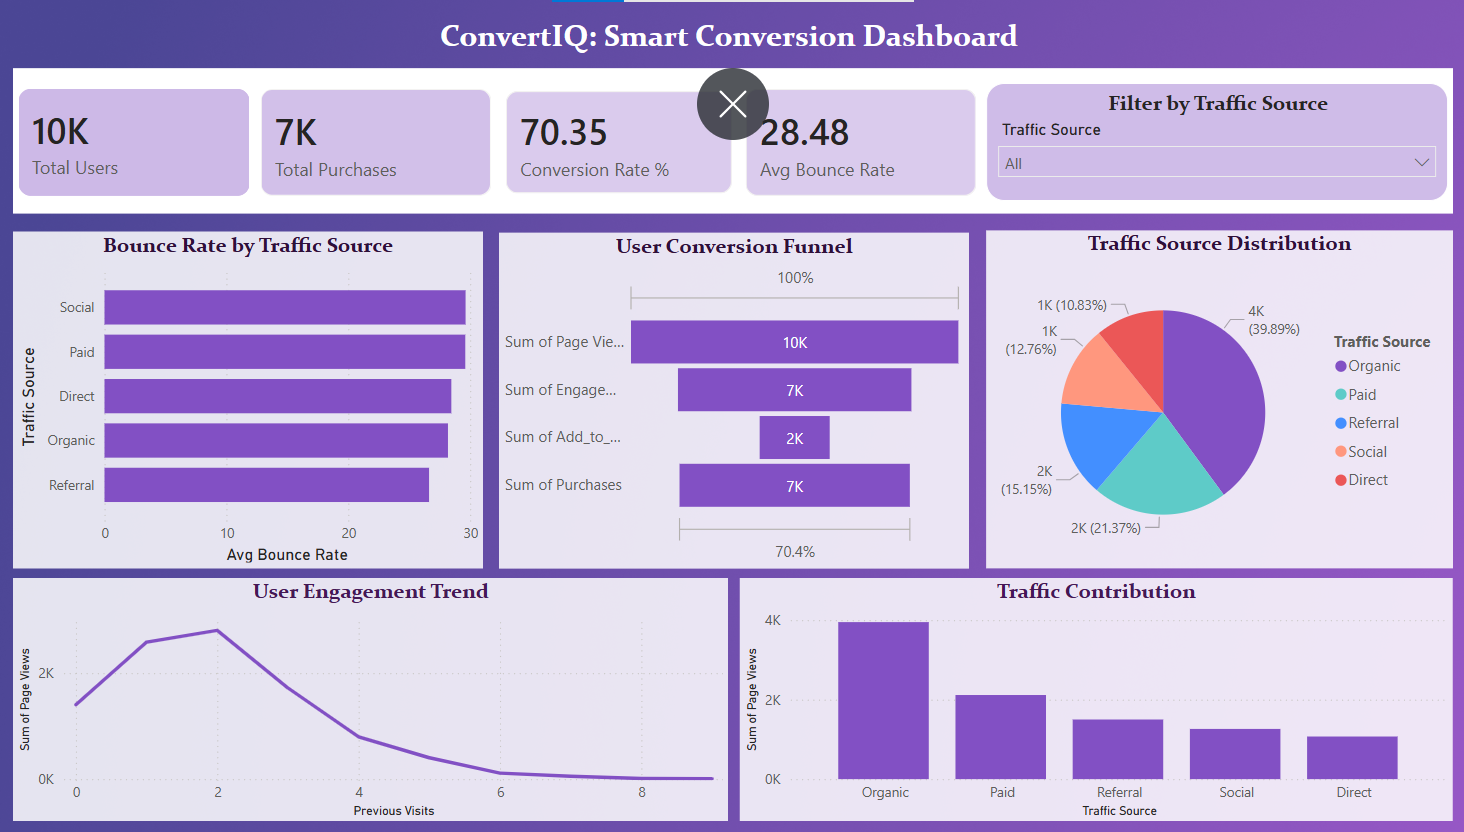

This screenshot's page, from the dashboard's own definition file:
{"tool":"powerbi","page":{"name":"Main Dashboard","canvas":[1280,720],"ordinal":0},"visuals":[{"type":"shape","box":[0,50.9,1280.4,128.8],"z":0},{"type":"cardVisual","fields":{"Data":["website_data.Total Users"]},"box":[0,63.6,215,105],"z":1000},{"type":"cardVisual","fields":{"Data":["website_data.Total Purchases"]},"box":[214.7,63.6,215,105],"z":2000},{"type":"cardVisual","fields":{"Data":["website_data.Conversion Rate %"]},"box":[431.1,63.6,215,105],"z":3000},{"type":"cardVisual","fields":{"Data":["website_data.Avg Bounce Rate"]},"box":[645.8,63.6,215,105],"z":4000},{"type":"funnel","title":"User Conversion Funnel","fields":{"Y":["Sum(website_data.Page Views)","Sum(website_data.Engaged User)","Sum(website_data.Add_to_Cart)","Sum(website_data.Purchases)"]},"box":[431.7,196.7,418.3,298.3],"z":5000},{"type":"clusteredBarChart","title":"Bounce Rate by Traffic Source","fields":{"Category":["website_data.Traffic Source"],"Y":["website_data.Avg Bounce Rate"]},"box":[0,195.6,418.3,299],"z":6000},{"type":"pieChart","title":"Traffic Source Distribution","fields":{"Category":["website_data.Traffic Source"],"Y":["Sum(website_data.Page Views)"]},"box":[865,195,415,300],"z":7000},{"type":"textbox","box":[373.3,0,526.7,50],"z":8000},{"type":"lineChart","title":"User Engagement Trend","fields":{"Category":["website_data.Previous Visits"],"Y":["Sum(website_data.Page Views)"]},"box":[0,504.2,636.2,216.3],"z":9000},{"type":"clusteredColumnChart","title":"Traffic Contribution","fields":{"Category":["website_data.Traffic Source"],"Y":["Sum(website_data.Page Views)"]},"box":[645.8,504.2,634.7,216.3],"z":10000},{"type":"slicer","title":"Filter by Traffic Source","fields":{"Values":["website_data.Traffic Source"]},"box":[865.3,63.6,410.4,105],"z":11000}]}

Visuals, with their boxes in screenshot pixels (x1, y1, x2, y2), scaled from the page's 1280x720 canvas onto the 1464x832 screenshot:
shape: {"x1": 0, "y1": 59, "x2": 1463, "y2": 208}
cardVisual - website_data.Total Users: {"x1": 0, "y1": 73, "x2": 246, "y2": 195}
cardVisual - website_data.Total Purchases: {"x1": 246, "y1": 73, "x2": 491, "y2": 195}
cardVisual - website_data.Conversion Rate %: {"x1": 493, "y1": 73, "x2": 739, "y2": 195}
cardVisual - website_data.Avg Bounce Rate: {"x1": 739, "y1": 73, "x2": 985, "y2": 195}
"User Conversion Funnel" funnel: {"x1": 494, "y1": 227, "x2": 972, "y2": 572}
"Bounce Rate by Traffic Source" clusteredBarChart: {"x1": 0, "y1": 226, "x2": 478, "y2": 572}
"Traffic Source Distribution" pieChart: {"x1": 989, "y1": 225, "x2": 1463, "y2": 572}
textbox: {"x1": 427, "y1": 0, "x2": 1029, "y2": 58}
"User Engagement Trend" lineChart: {"x1": 0, "y1": 583, "x2": 728, "y2": 831}
"Traffic Contribution" clusteredColumnChart: {"x1": 739, "y1": 583, "x2": 1463, "y2": 831}
"Filter by Traffic Source" slicer: {"x1": 990, "y1": 73, "x2": 1459, "y2": 195}
